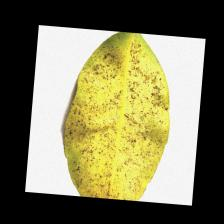canker: (92, 60, 161, 150)
